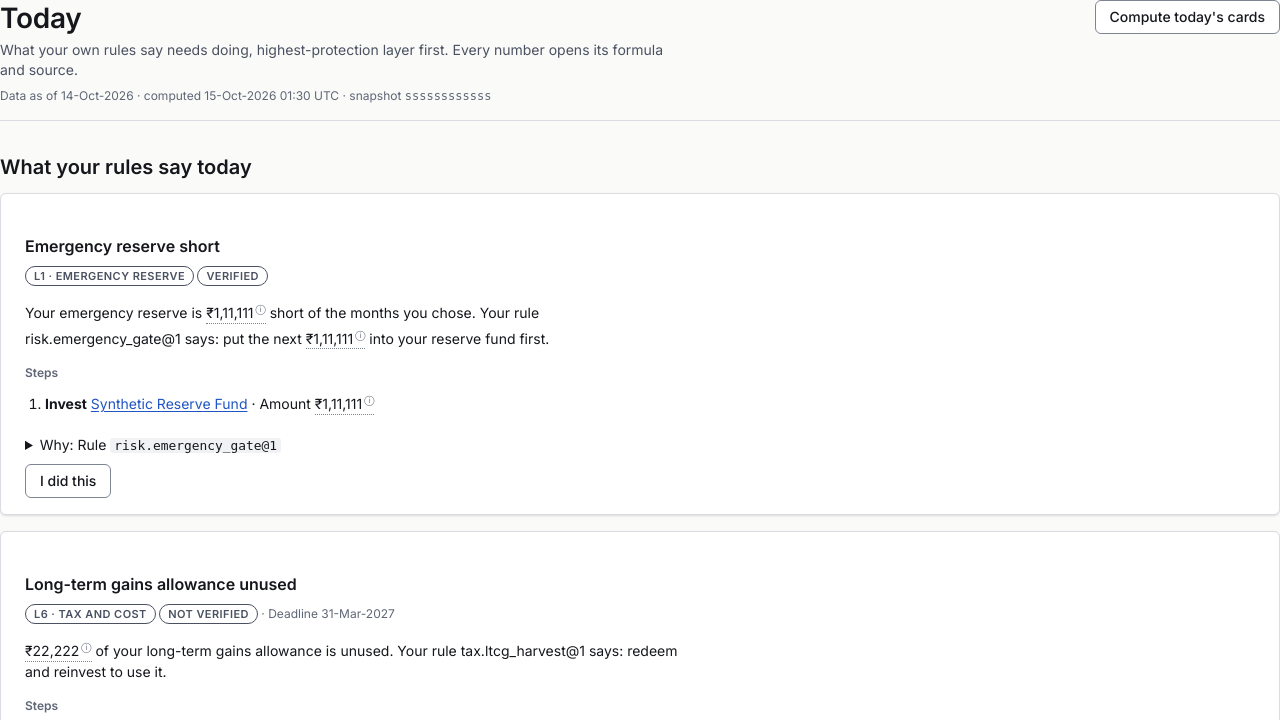
Test case: Today page › every number opens its formula and source in the ExplainDrawer
Click the 1st button "₹1,11,111ⓘ": click(236, 311) [206, 298, 266, 324]
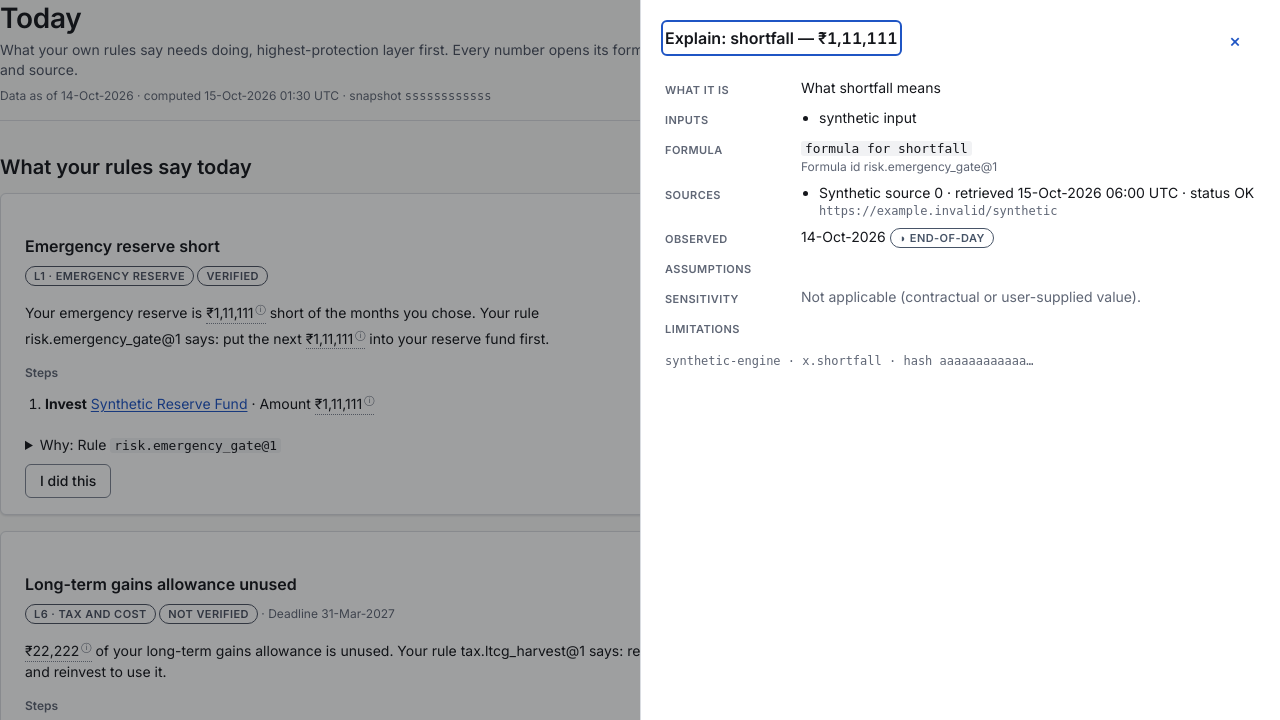
Expected: the text "risk.emergency_gate@1" is shown, [864, 159, 997, 174]
Expected: the list item "Synthetic source 0" is shown, [819, 184, 943, 201]
Click the button named "Close explanation": click(1235, 41) [1214, 24, 1256, 58]
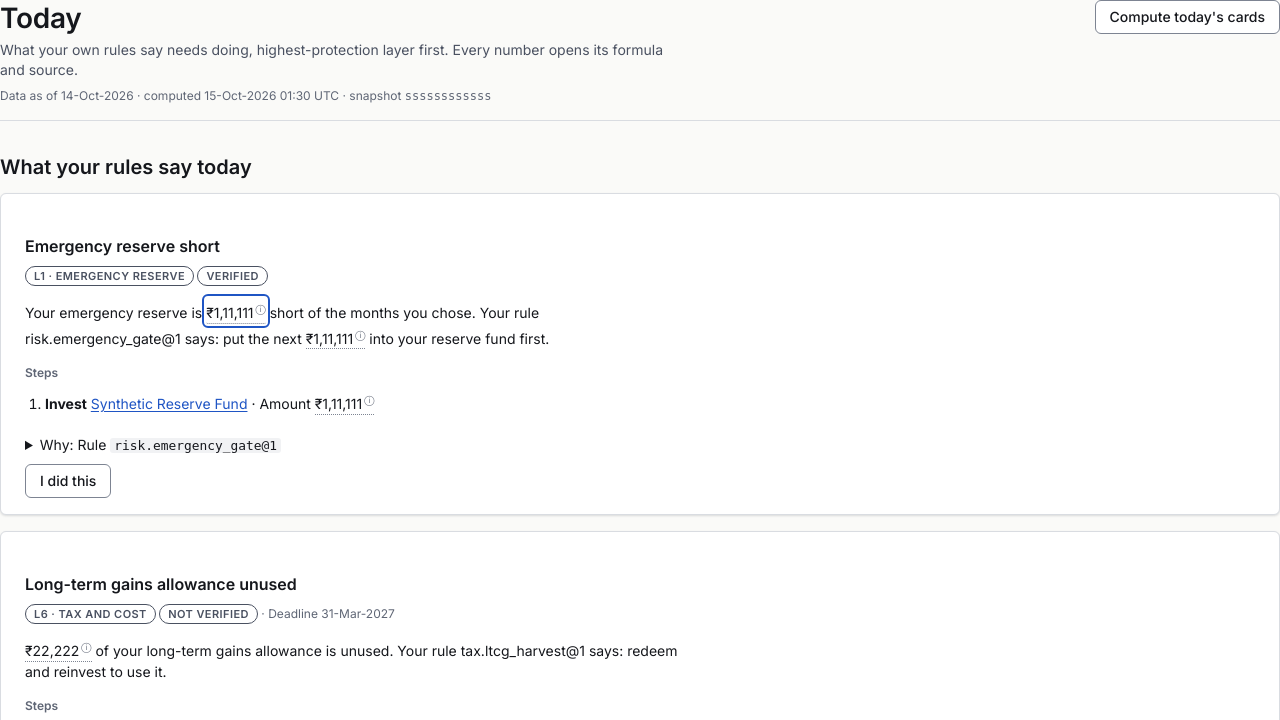
Expected: the heading "Explain: shortfall" is gone
